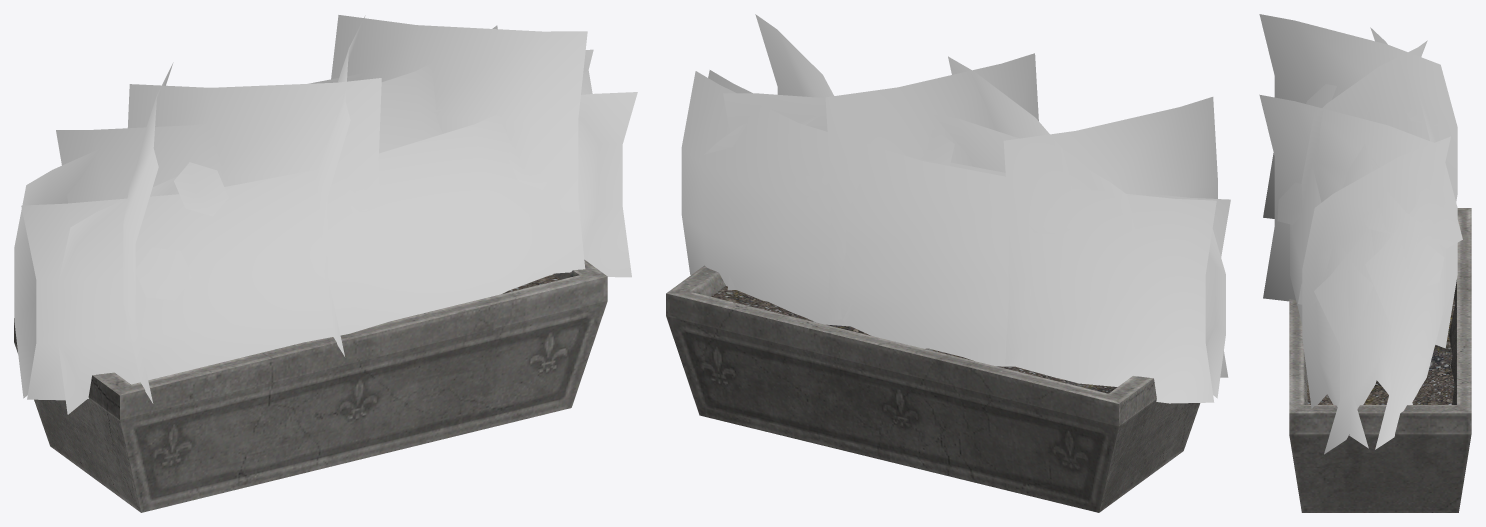
File: Flower_Pot_06.fbx
3 views of the same model, side by side, from view 1: azimuth 30°, elevation 25°; view 2: azimuth 150°, elevation 25°; view 3: azimuth 270°, elevation 25° (orthographic). The views are drawn at different scales.
Visible parts, largest first — view 1: Flower_Pot_06_LOD0; view 2: Flower_Pot_06_LOD0; view 3: Flower_Pot_06_LOD0.
Boxes of the visible parts, x1,y1,x2,y2 form: Flower_Pot_06_LOD0: (14,15,637,512); Flower_Pot_06_LOD0: (666,14,1230,512); Flower_Pot_06_LOD0: (1259,14,1471,512).
Size of what is drawn, in the model's own units: 99.99 by 61.04 by 36.83.
